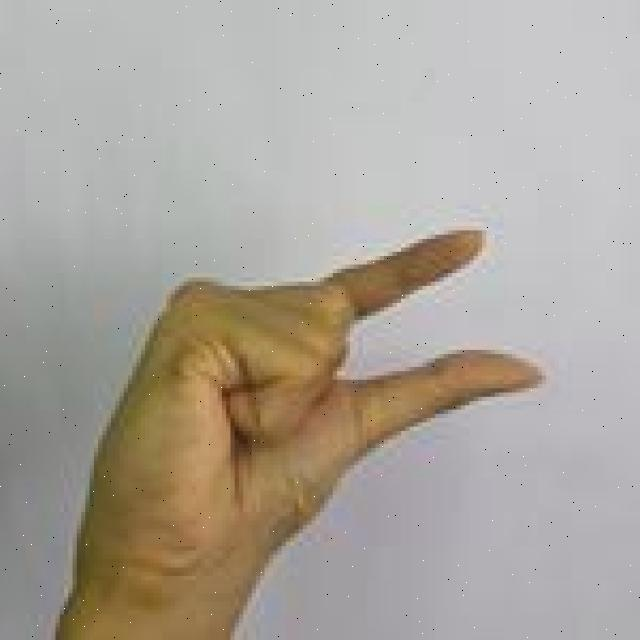G: (0, 222, 550, 640)
